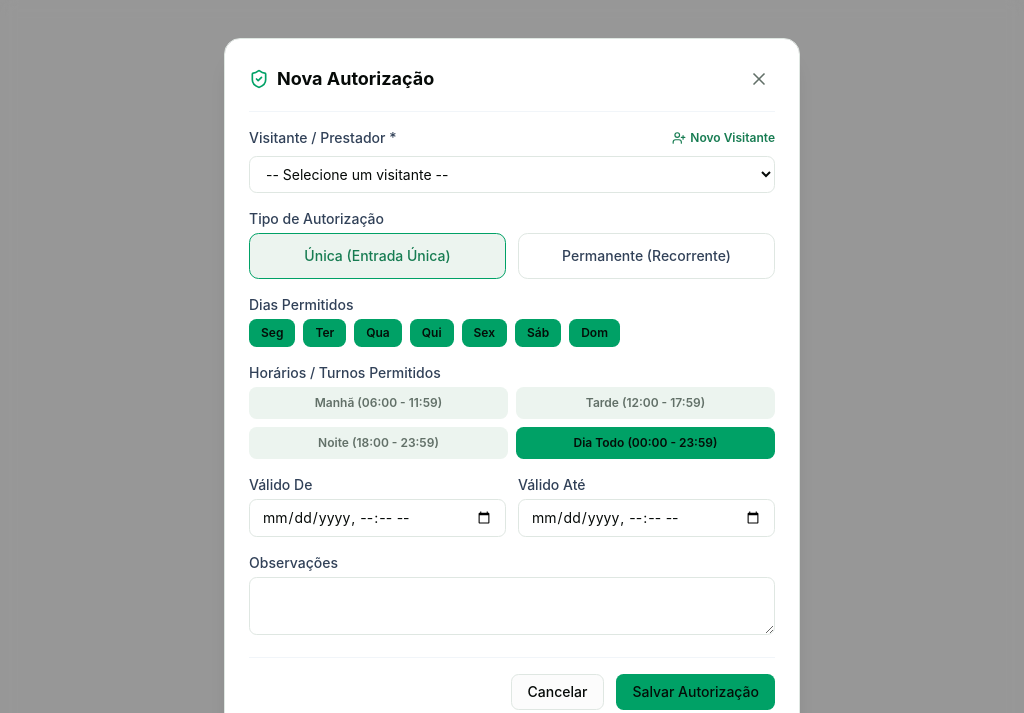
Scenario: AuthorizationFormModal › creating a new visitor inline › goes back to the visitor selector when the toggle is pressed again
Click the button "Novo Visitante": (724, 138) [672,130,775,146]
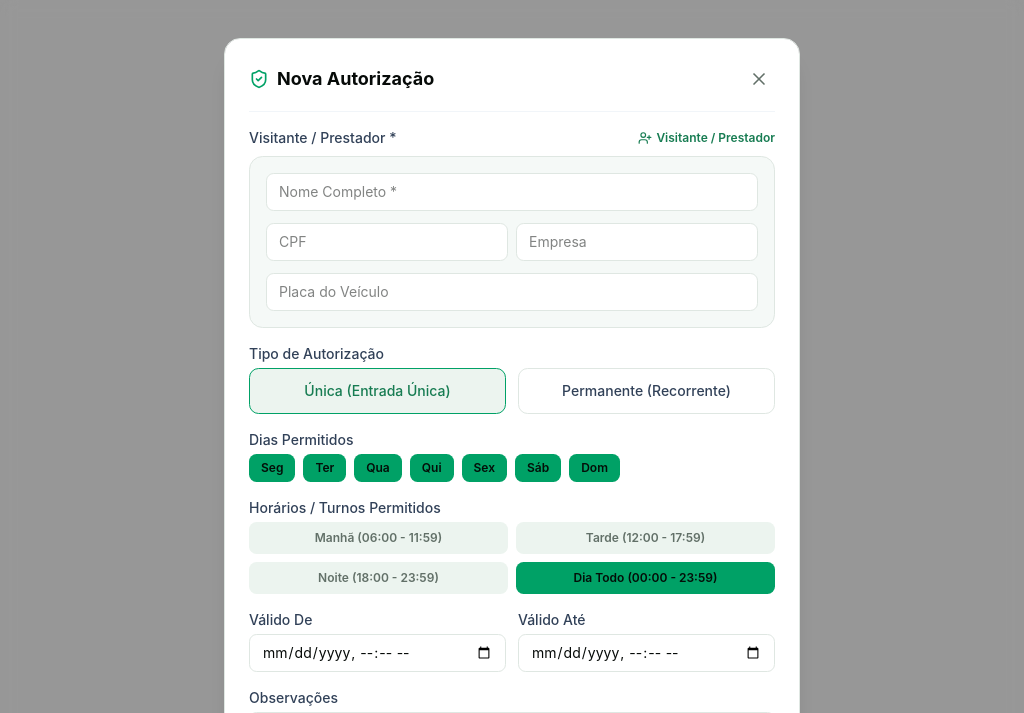
Result: the dropdown is gone
Click the button "Visitante / Prestador": (707, 138) [638,130,775,146]
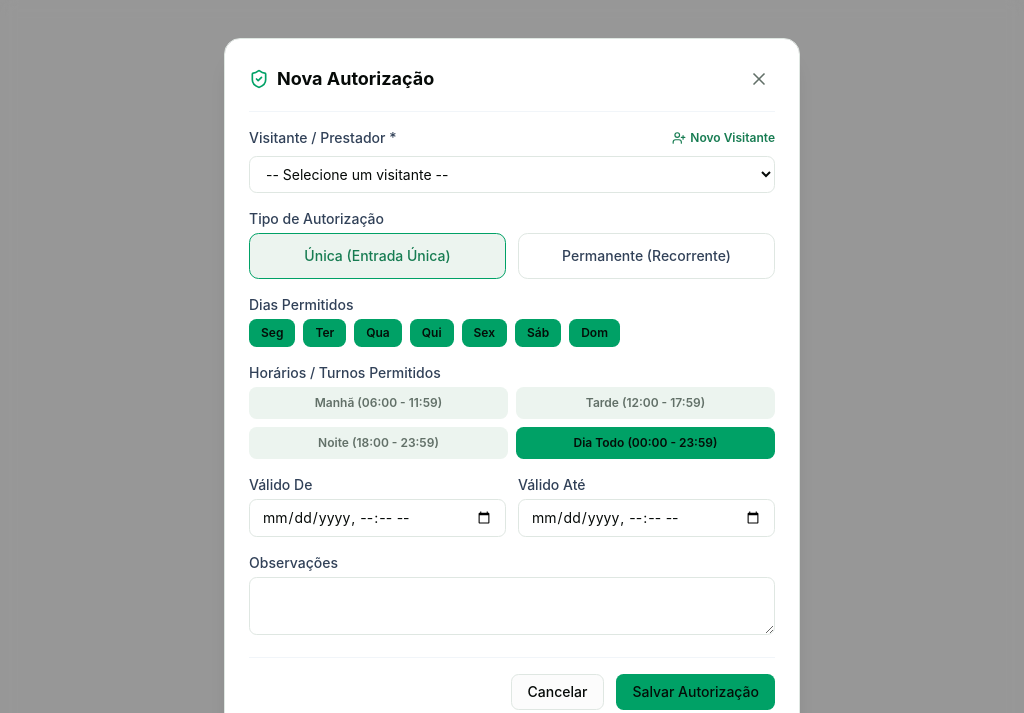
Result: the dropdown is shown at [249,156,775,193]
